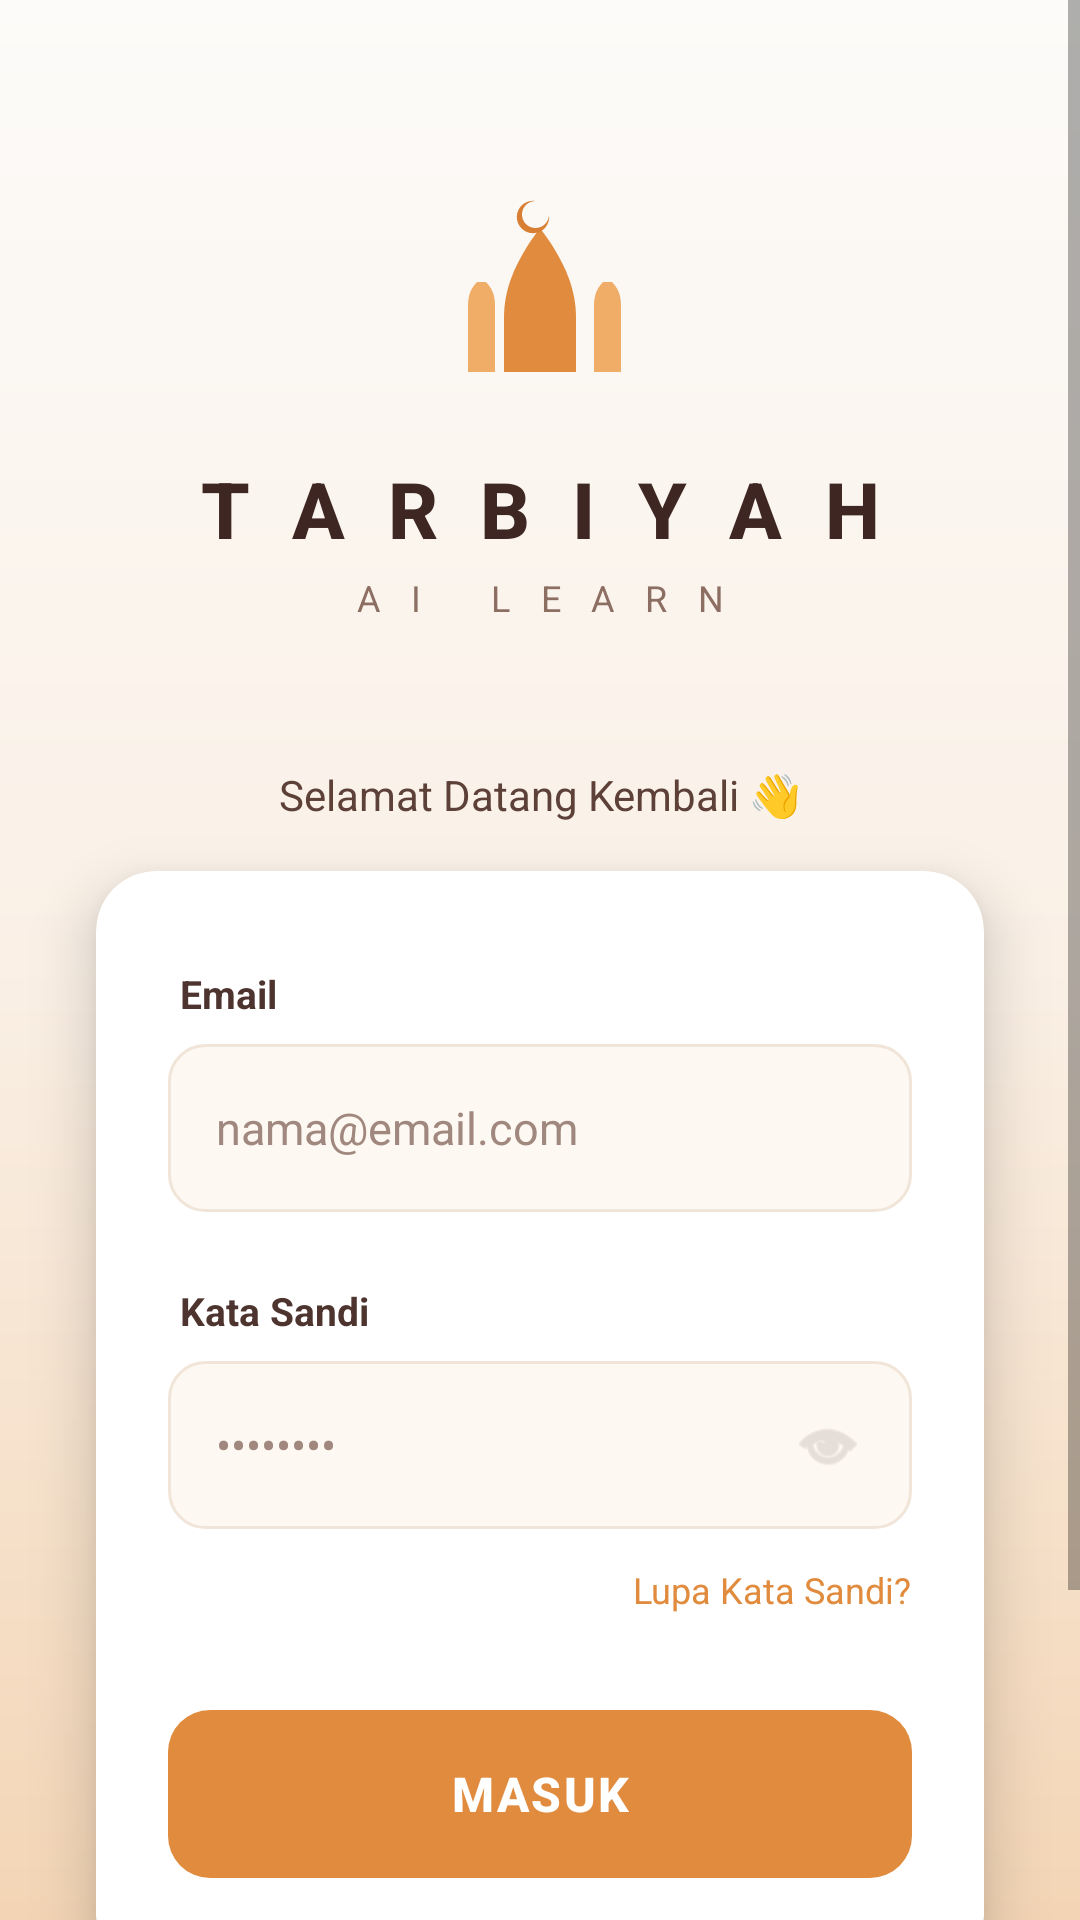

Icons on this 1080 x 1920 Android screen, each with its box as {"left": x1, "top": y1, "right": x2, "bottom": y2}:
mosque minimal: {"left": 468, "top": 200, "right": 621, "bottom": 372}
view: {"left": 801, "top": 1430, "right": 855, "bottom": 1463}
